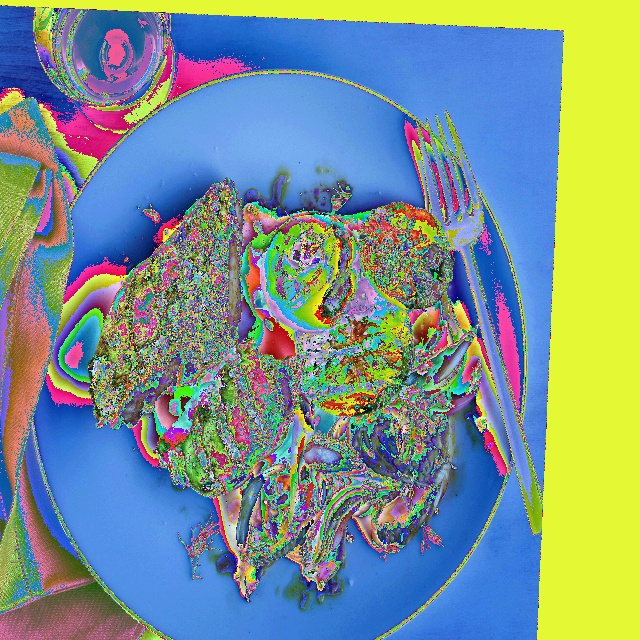background: (88, 177, 482, 602), (52, 9, 167, 104)
